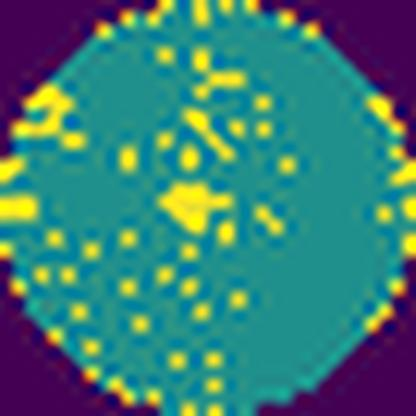Center: (159, 178, 240, 232)
